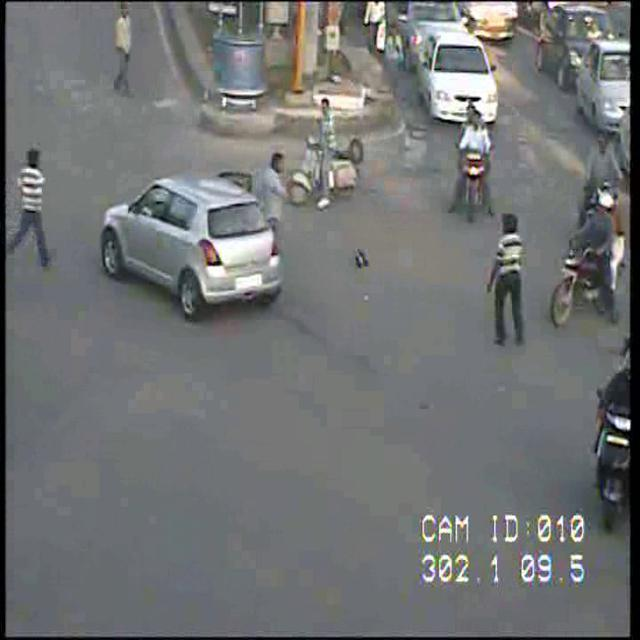accident: (93, 160, 375, 326)
